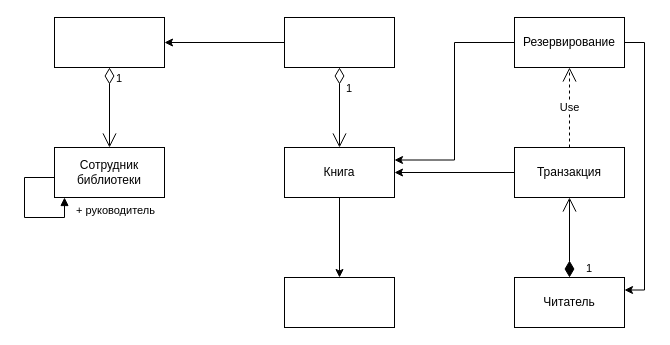
The diagram is 670 pixels wide and 345 high, and some of its shapes have lost their labels. Each missing label, with the box of its shape:
Автор: (284, 276, 394, 328)
Категория: (284, 16, 394, 68)
Читальный зал: (54, 16, 164, 68)
